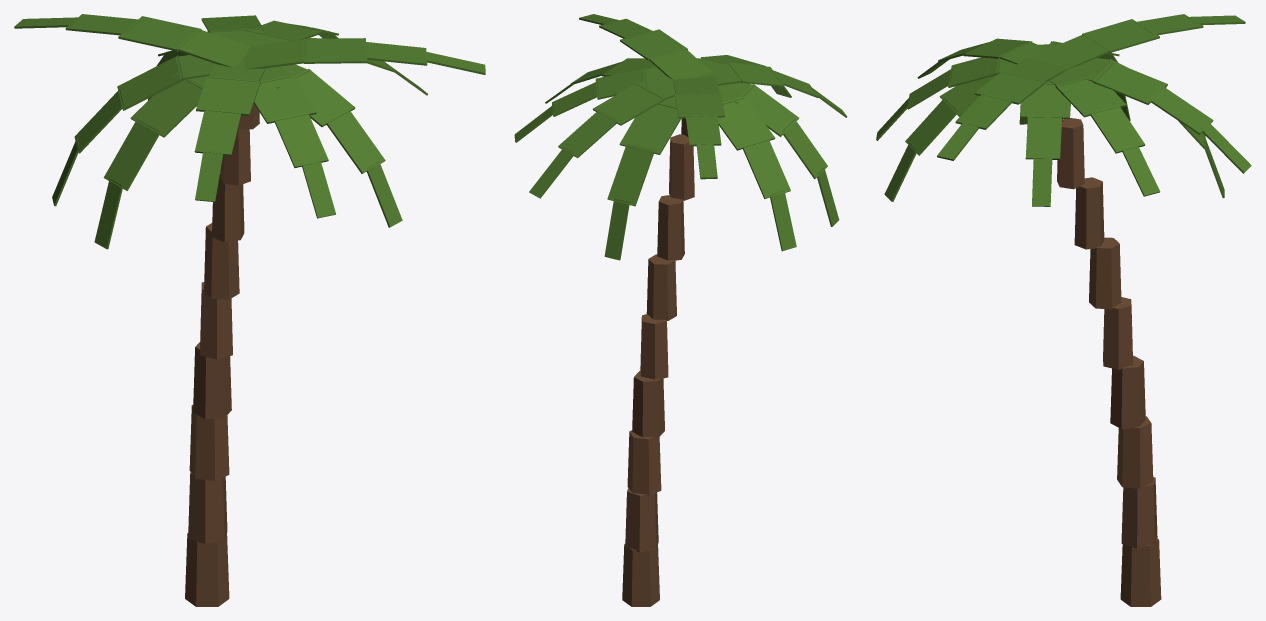
The model's file is palm_b.glb.
3 renders of one model, left to right at view 1: azimuth 30°, elevation 25°; view 2: azimuth 150°, elevation 25°; view 3: azimuth 270°, elevation 25°, orthographic. The views are drawn at different scales.
Visible parts, largest first — view 1: Palm; view 2: Palm; view 3: Palm.
Part boxes in pixels (x1,y1,x2,y2): Palm: (14, 14, 485, 606); Palm: (514, 14, 847, 606); Palm: (876, 14, 1251, 606).
Bounding box in the file's own units: 7.37 × 12.04 × 7.61.
